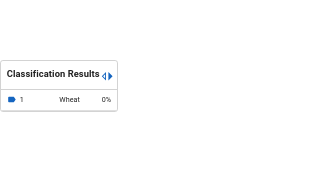
Scenario: ResultsTable › score formatting in top results › formats a very small positive score as '< 0.01%'
The image size is (320, 173).
Click the row at x=59, y=100, box [1,90,117,110]
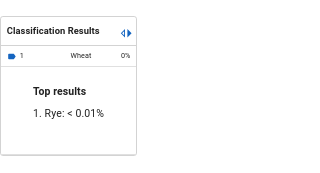
Result: the text "1. Rye: < 0.01%" is shown at [33,105,104,122]
